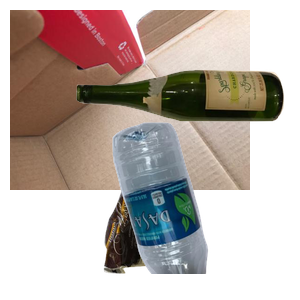cardboard: (10, 10, 250, 190)
glass: (74, 67, 300, 181)
plastic: (110, 120, 300, 300)
trash: (101, 157, 270, 300)
